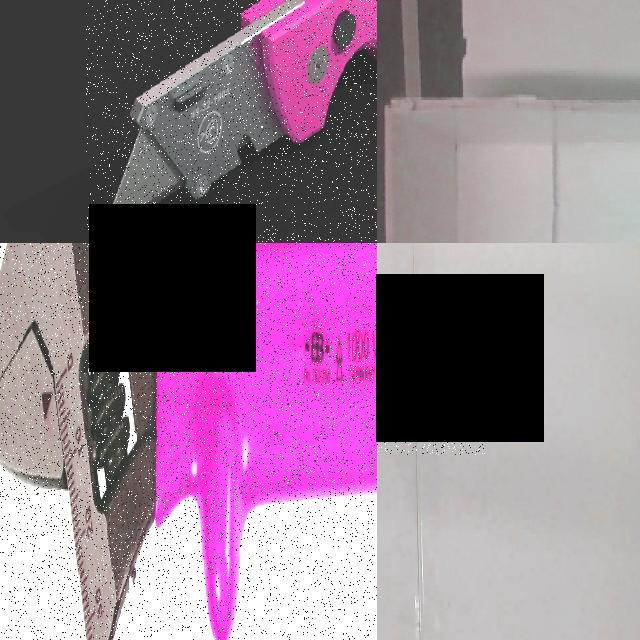estilete: (113, 0, 375, 201)
